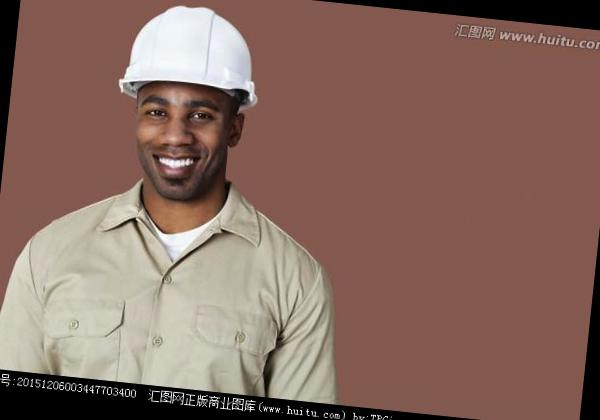helmet: (112, 0, 269, 120)
no_vest: (33, 195, 322, 398)
person: (21, 0, 349, 397)
